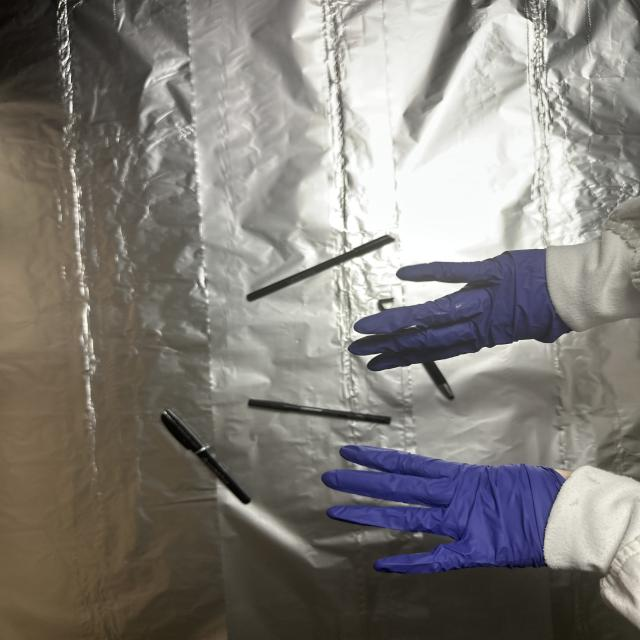glove_partial: (318, 439, 574, 576), (346, 248, 571, 374)
